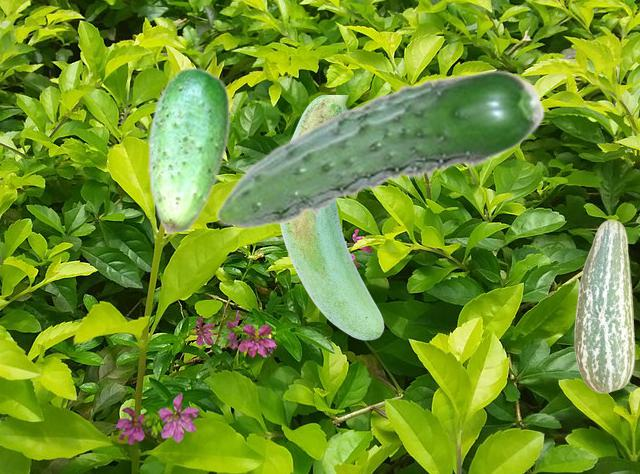cucumber: (215, 69, 545, 228), (280, 95, 383, 339), (147, 66, 229, 234), (574, 219, 634, 392)
